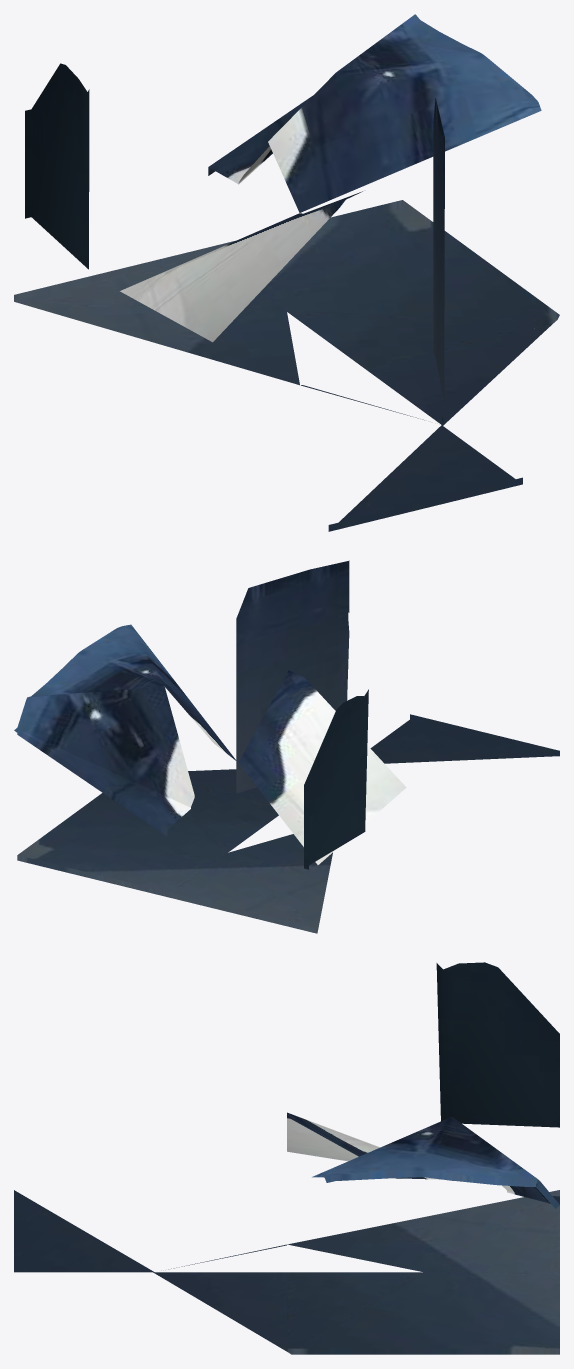
The picture shows the model from 3 angles, top to bottom: view 1: azimuth 30°, elevation 25°; view 2: azimuth 150°, elevation 25°; view 3: azimuth 270°, elevation 25°; orthographic projection. The views are drawn at different scales.
Parts seen in each view (by area): view 1: 30436272704370427431_1; view 2: 30436272704370427431_1; view 3: 30436272704370427431_1.
Part boxes in pixels (<box>): 30436272704370427431_1: <box>14,14,559,531</box>; 30436272704370427431_1: <box>14,560,559,933</box>; 30436272704370427431_1: <box>14,962,559,1354</box>.
Size of the model in its own units: 27.61 by 17.88 by 38.26.
1 material, 1 textured.
